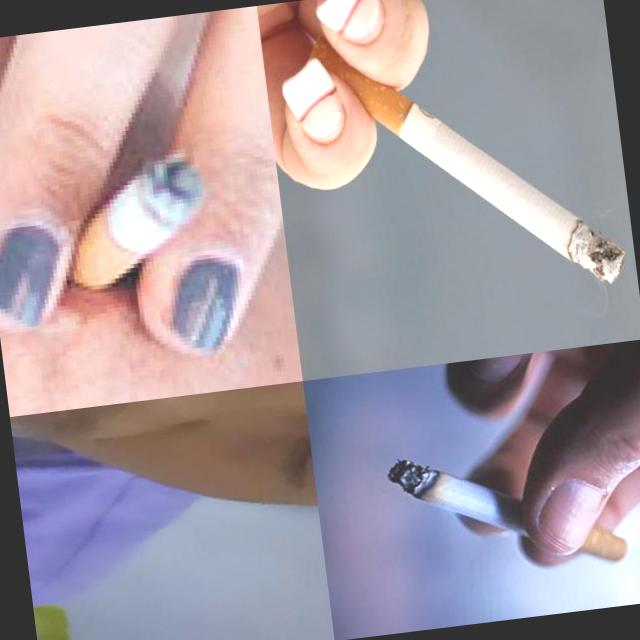cigarette: (303, 0, 630, 317), (384, 432, 630, 589), (55, 153, 214, 295)
